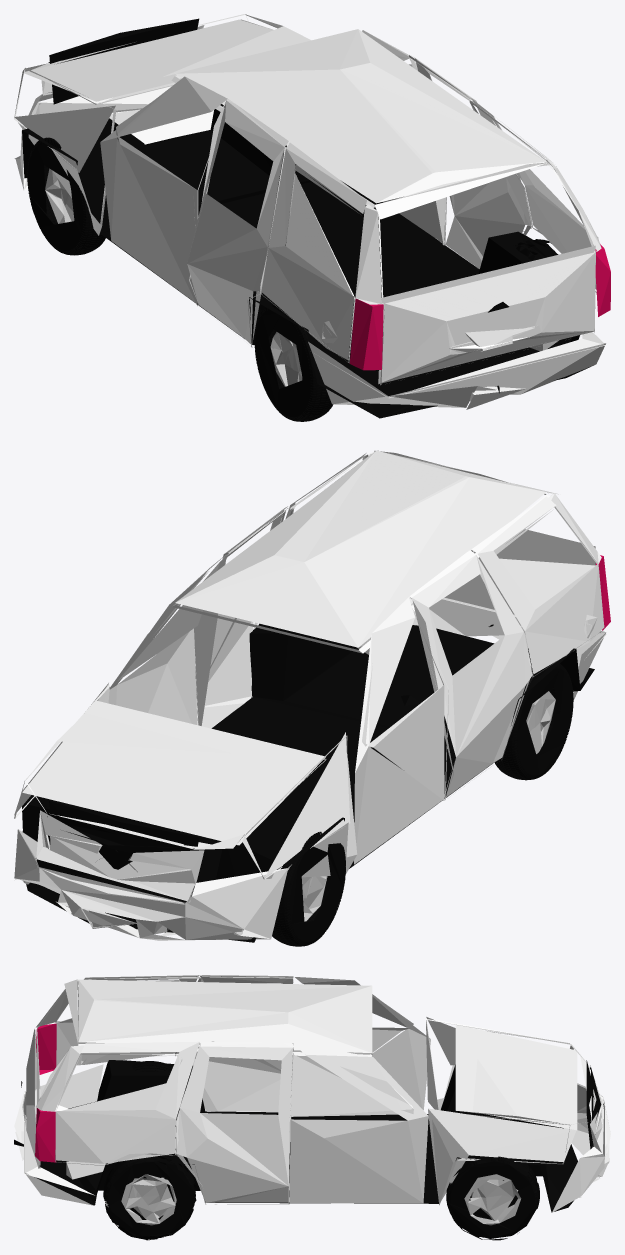
The model's file is tahoe_lod1.glb.
3 renders of one model, top to bottom at view 1: azimuth 30°, elevation 25°; view 2: azimuth 150°, elevation 25°; view 3: azimuth 270°, elevation 25°, orthographic. The views are drawn at different scales.
Visible parts, largest first — view 1: Object_7, Object_2, Object_10, Object_9, Object_4; view 2: Object_7, Object_2, Object_10, Object_4, Object_3; view 3: Object_7, Object_10, Object_2, Object_4, Object_9.
Boxes of the visible parts, left/top/right/bottom form: Object_7: left=14, top=14, right=605, bottom=409; Object_2: left=22, top=18, right=593, bottom=418; Object_10: left=27, top=137, right=579, bottom=421; Object_9: left=349, top=244, right=610, bottom=370; Object_4: left=45, top=168, right=558, bottom=386; Object_7: left=14, top=450, right=606, bottom=940; Object_2: left=22, top=624, right=594, bottom=942; Object_10: left=22, top=623, right=573, bottom=946; Object_4: left=301, top=637, right=555, bottom=921; Object_3: left=47, top=813, right=194, bottom=859; Object_7: left=14, top=975, right=610, bottom=1212; Object_10: left=103, top=1061, right=539, bottom=1240; Object_2: left=14, top=1060, right=594, bottom=1212; Object_4: left=66, top=1161, right=521, bottom=1225; Object_9: left=35, top=1023, right=56, bottom=1162.
Size of the model in its own units: 2.07 by 1.76 by 5.12.
